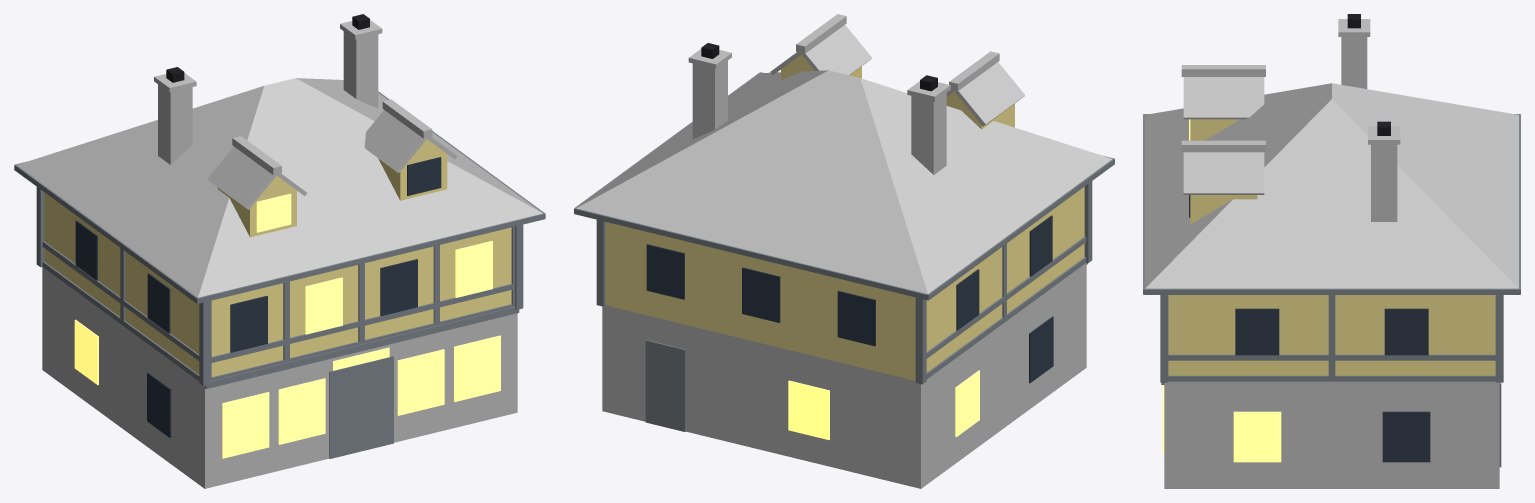
The model's file is generated.lantern_inn.gltf.
3 views of the same model, side by side, from view 1: azimuth 30°, elevation 25°; view 2: azimuth 150°, elevation 25°; view 3: azimuth 270°, elevation 25° (orthographic). The views are drawn at different scales.
Parts seen in each view (by area): view 1: lantern_inn; view 2: lantern_inn; view 3: lantern_inn.
Boxes of the visible parts, x1,y1,x2,y2 form: lantern_inn: (14,14,545,488); lantern_inn: (574,14,1114,488); lantern_inn: (1143,14,1520,488).
Size of the model in its own units: 11.14 by 10.25 by 10.14.
